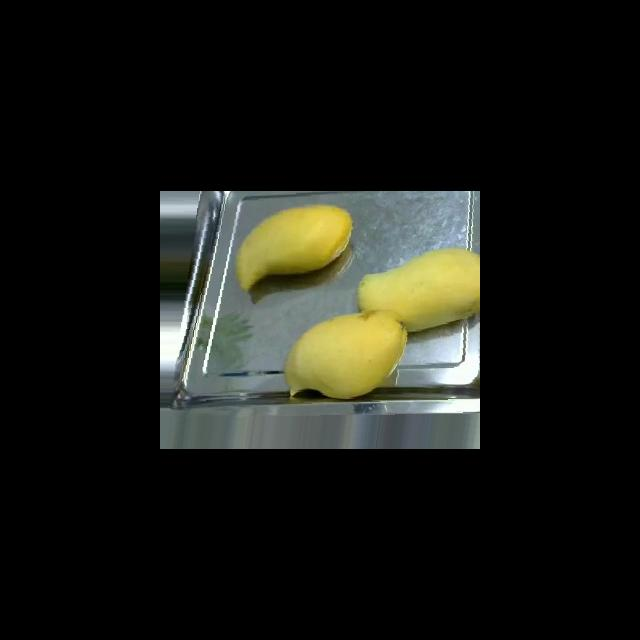mango: (284, 309, 407, 399), (235, 203, 353, 291), (357, 247, 479, 332)
